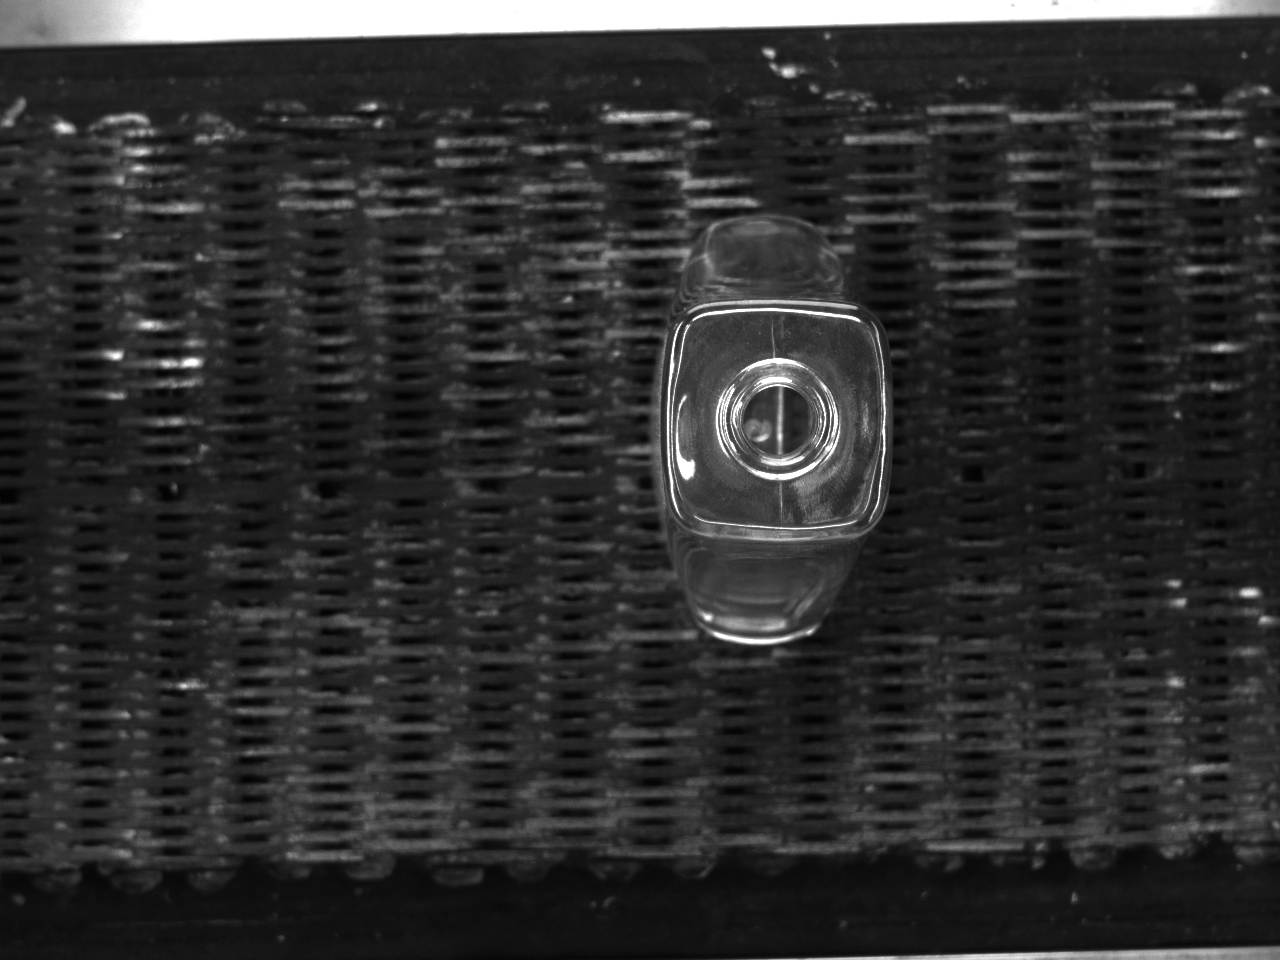bottleneck: (717, 358, 840, 480)
